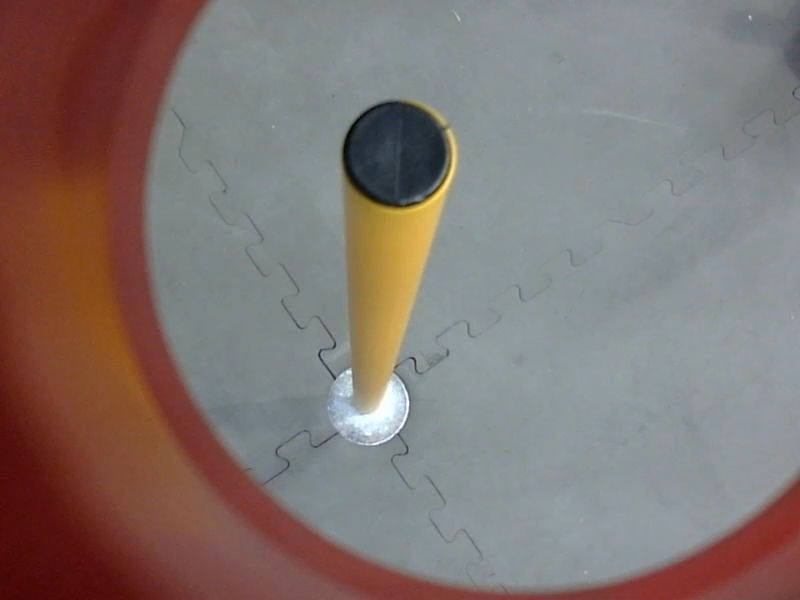tip: (332, 94, 468, 223)
